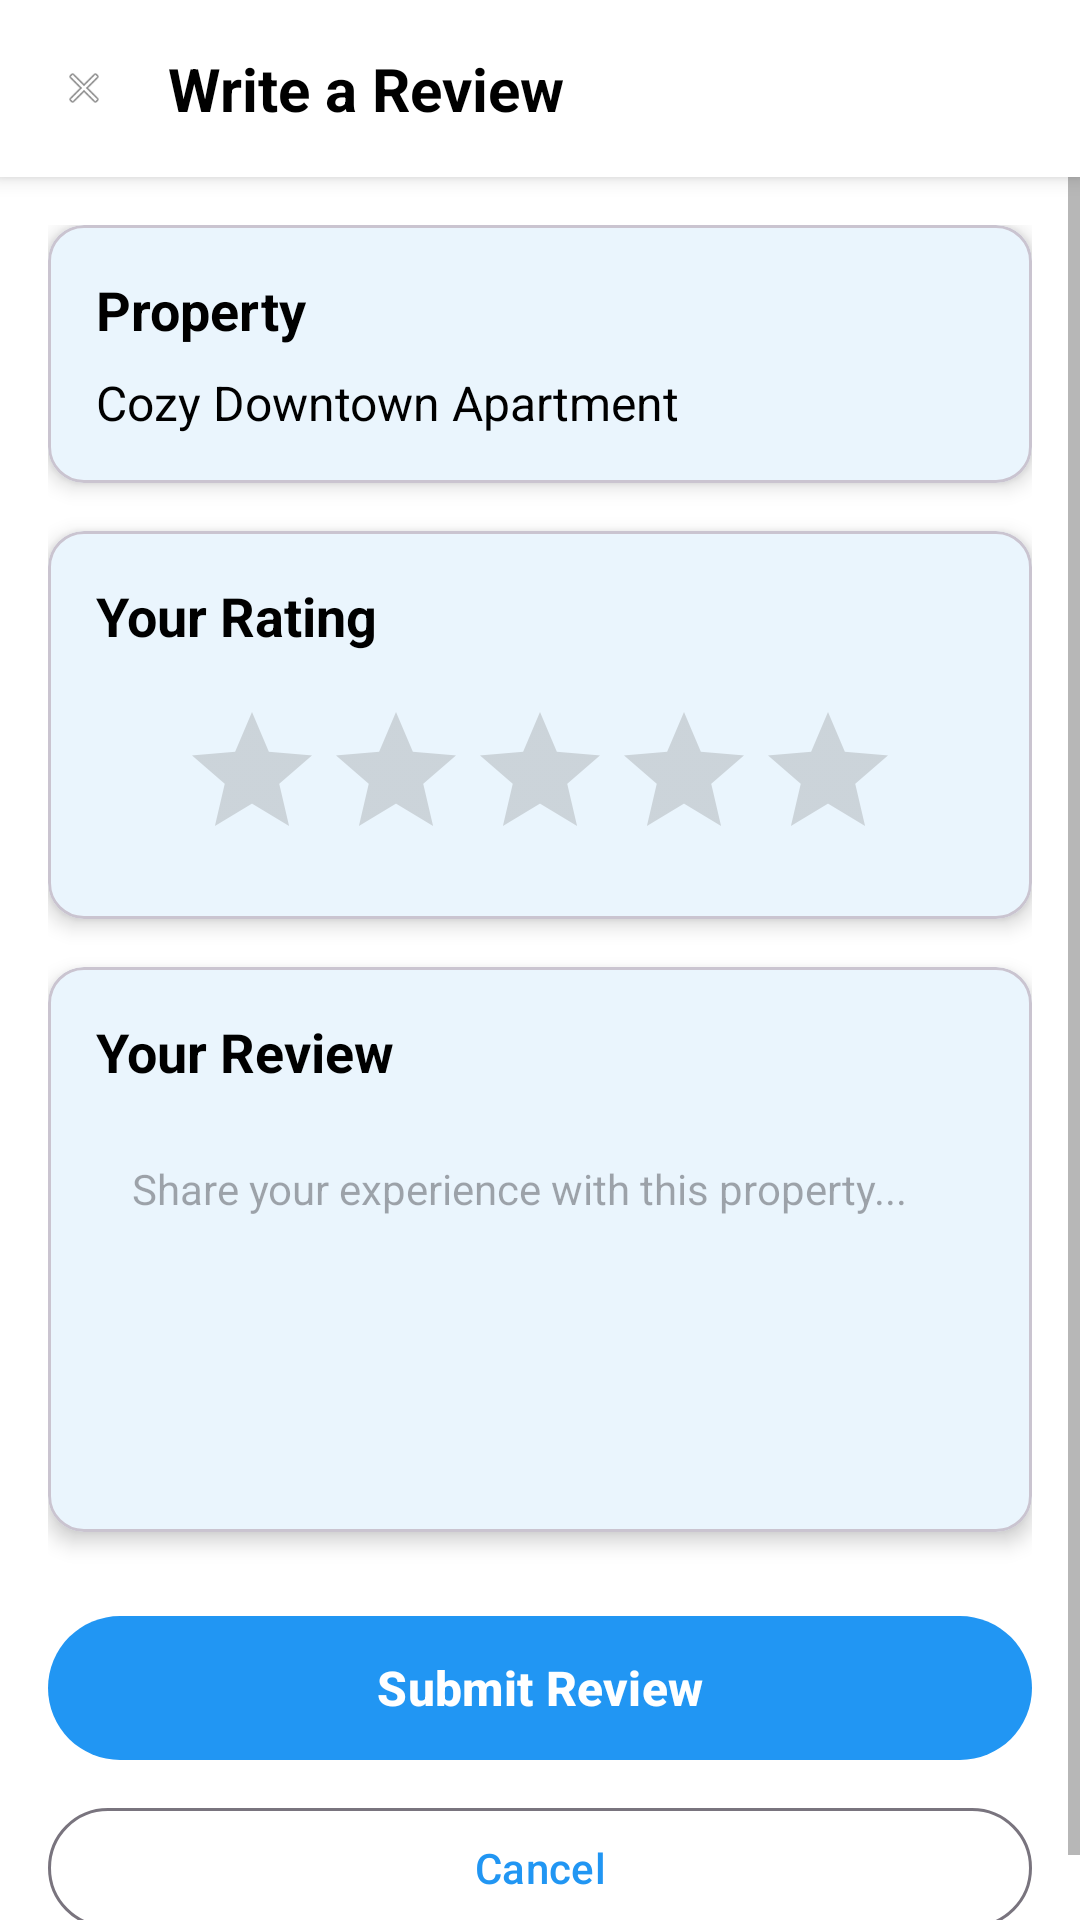

Icons on this 1080*1920 Android screen, each with the point to tap as (x=x, y=y):
close clear cancel: (x=84, y=88)
